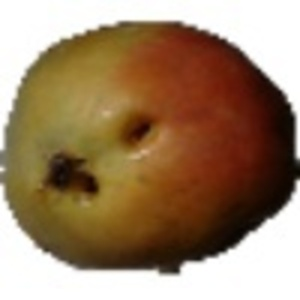mamão: (3, 14, 295, 279)
